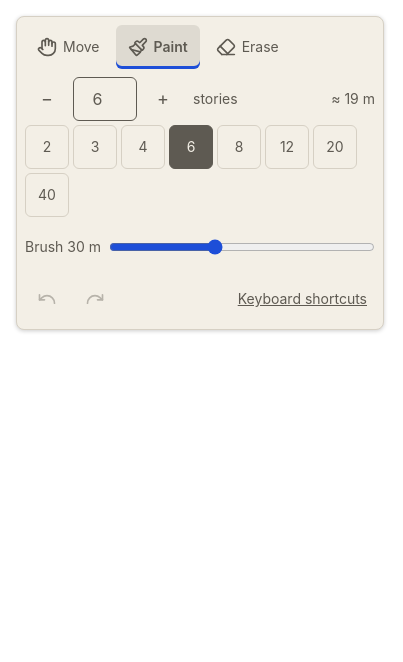
Test: BrushToolbar (desktop) › toggles the keyboard shortcuts table
This screenshot has width=403, height=662.
Step 1. Click the button "Keyboard shortcuts" → (302, 299), box x1=230 y1=277 x2=375 y2=321
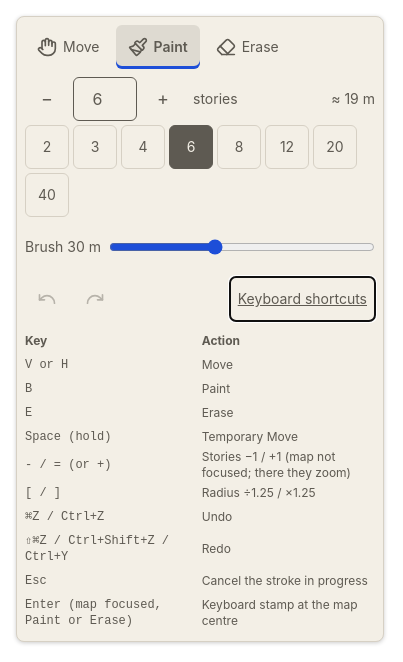
Expected: the table is shown, x1=25 y1=329 x2=375 y2=633
Expected: the cell "Keyboard stamp at the map centre" is shown, x1=202 y1=593 x2=375 y2=633
